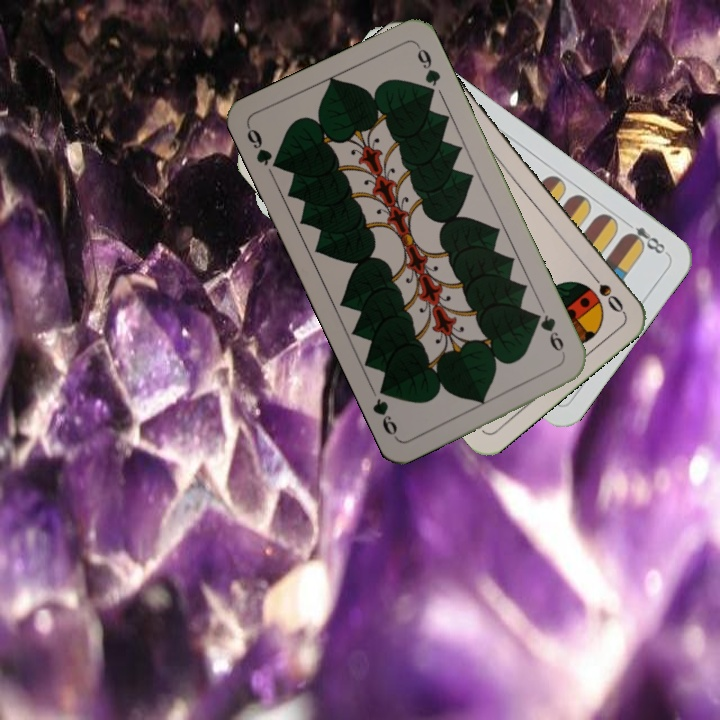E8: (621, 216, 670, 257)
G9: (242, 122, 285, 173), (530, 308, 568, 360)
SO: (584, 266, 627, 316)
